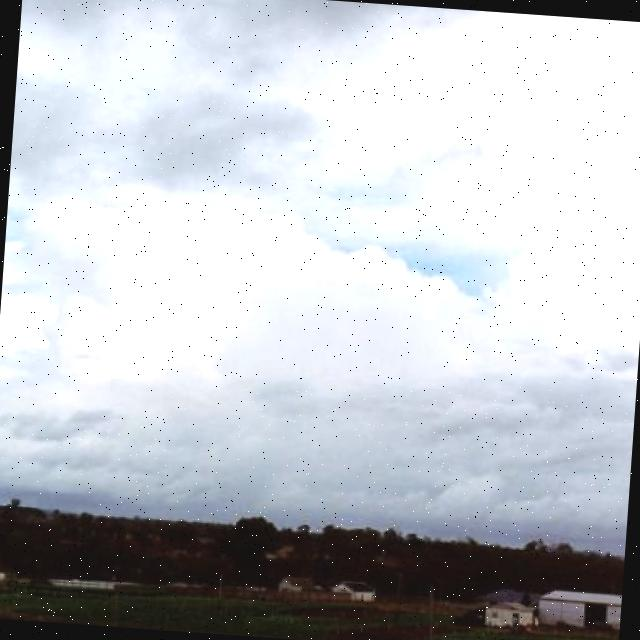Sc: (1, 31, 640, 461)
